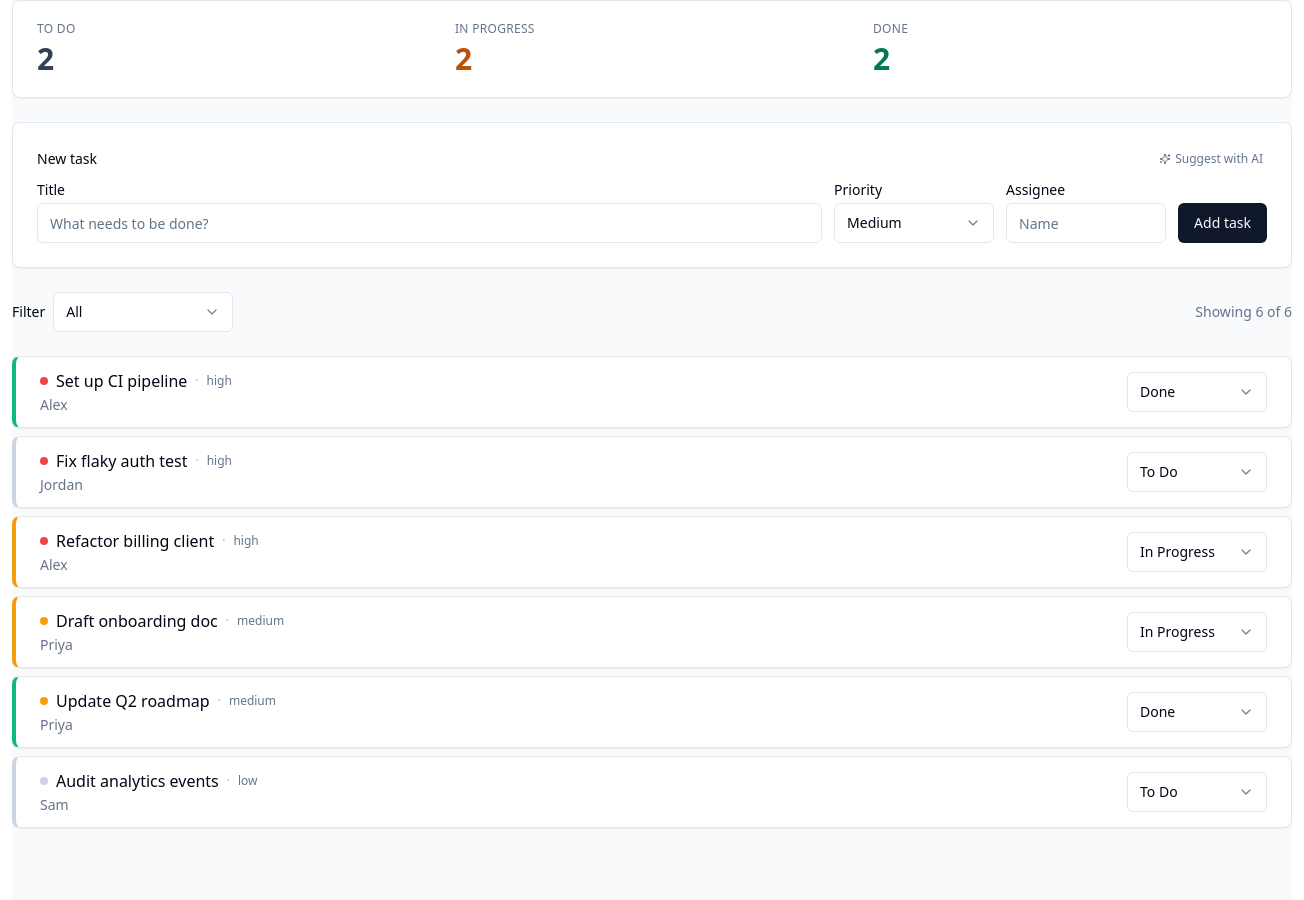
Test: TaskBoard › adds a new task via the create form
This screenshot has width=1304, height=900.
Type "Write release notes" into the field labelled "Title" at (430, 223), box [37,203,822,243]
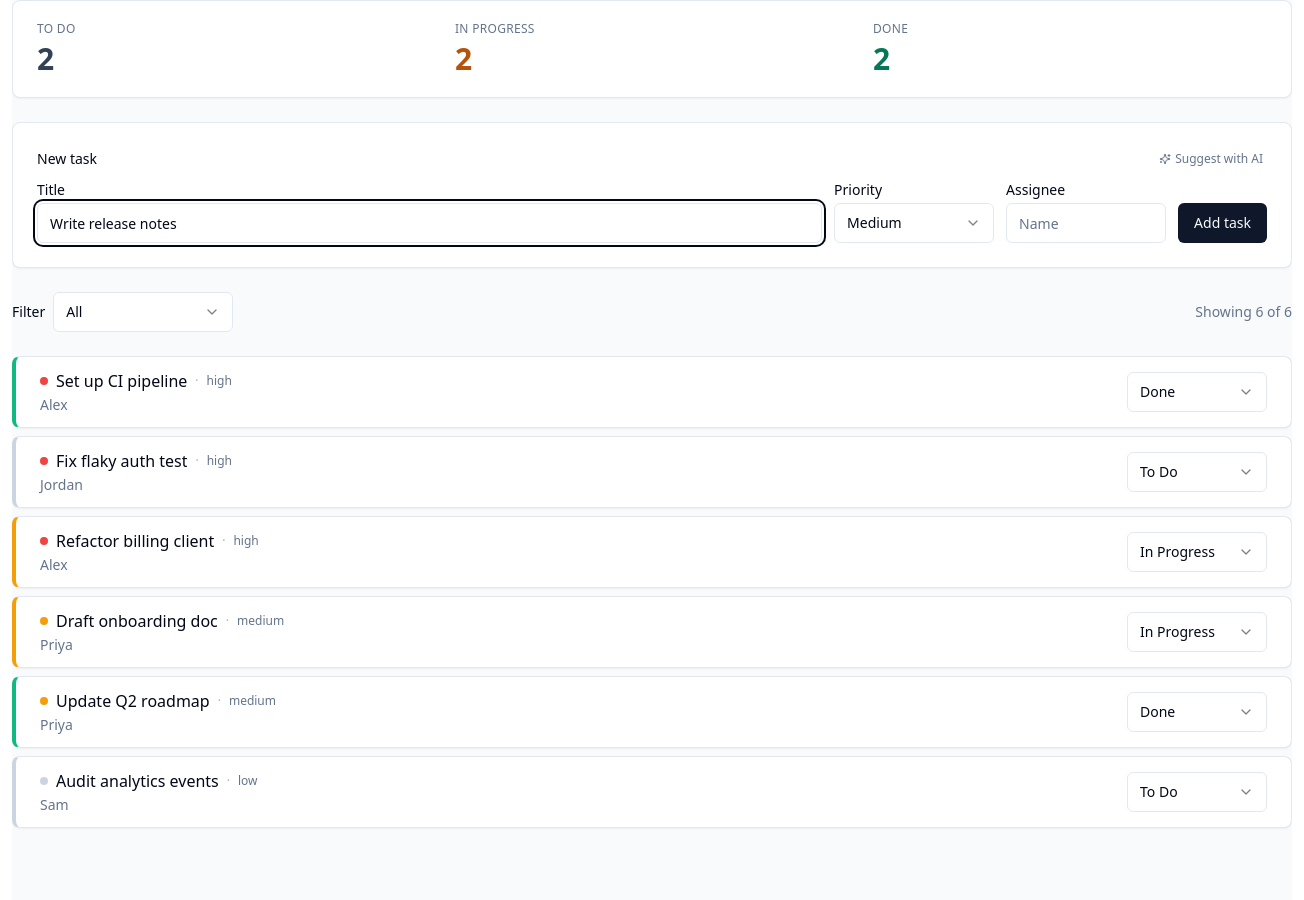
Type "Riley" into the field labelled "Assignee" at (1086, 223), box [1006,203,1166,243]
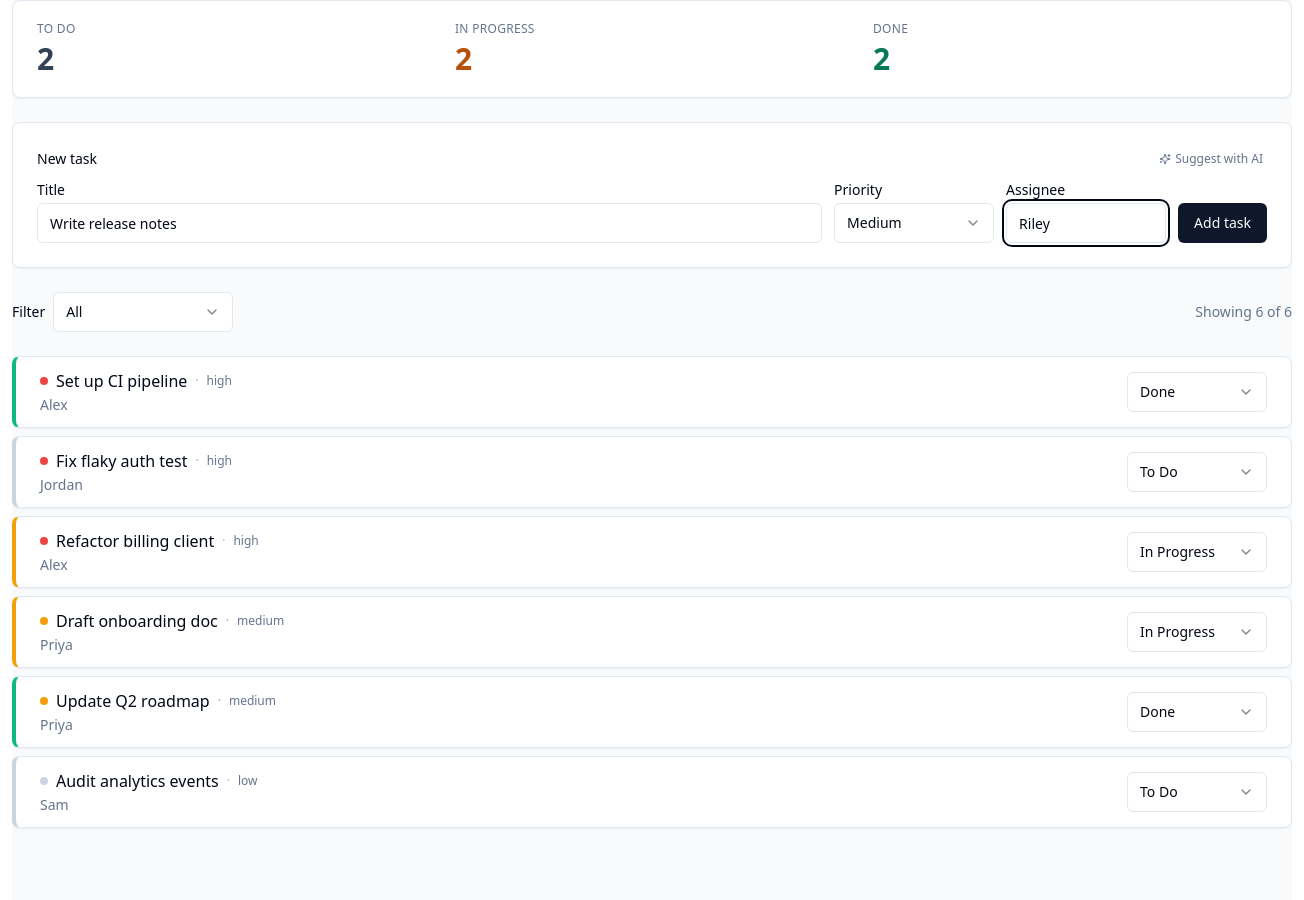
Click the button "Add task" at (1223, 223), box [1178,203,1267,243]
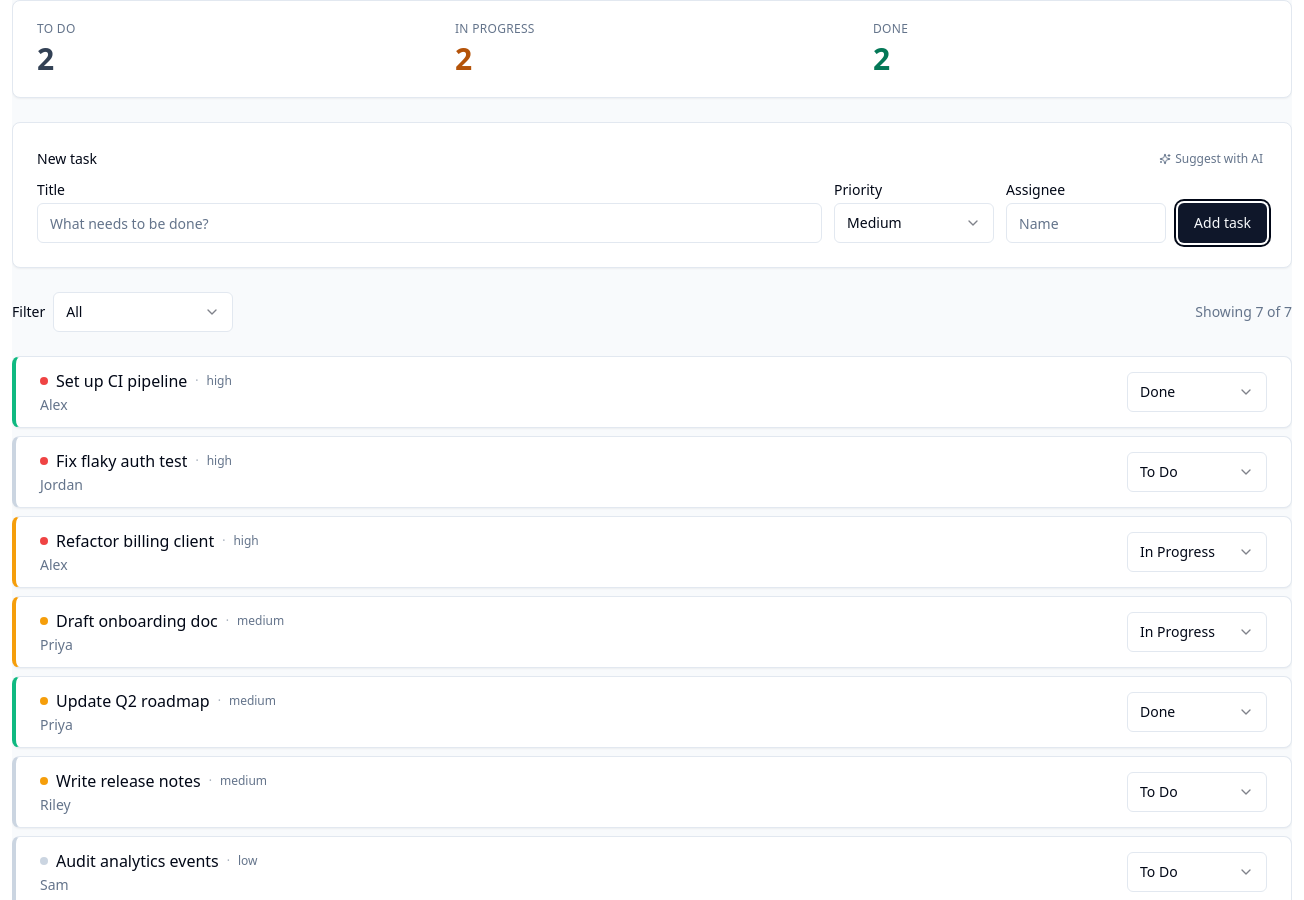
Now the text "Write release notes" is shown, box [56,769,201,793]
Now the text "Riley" is shown, box [40,795,71,814]
